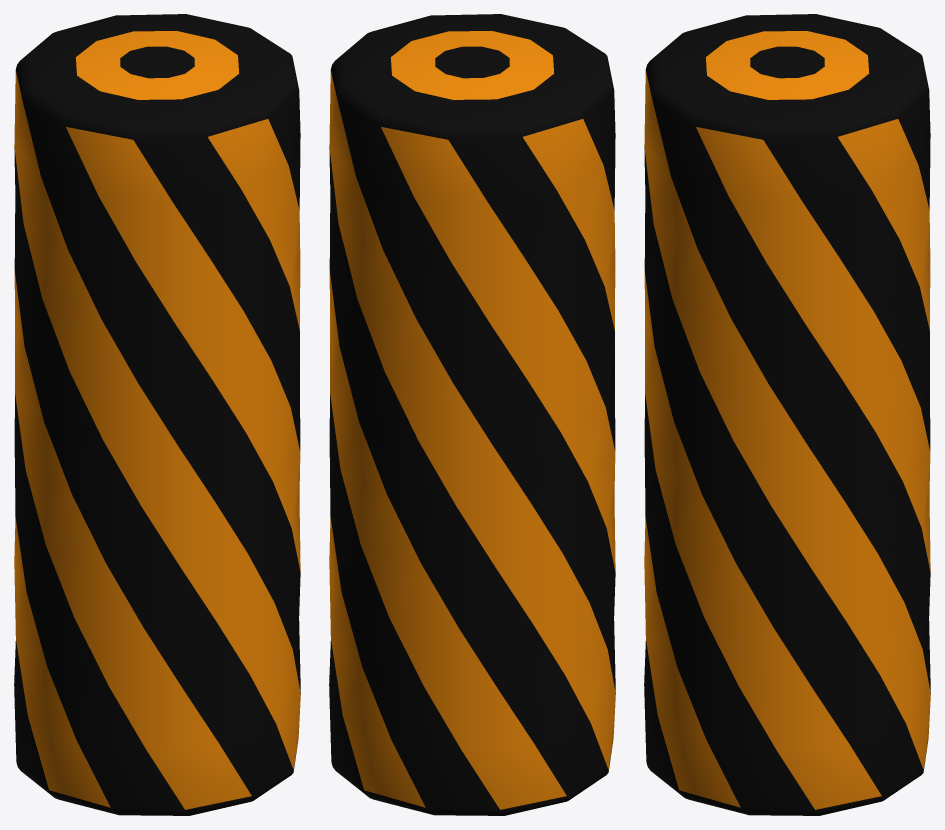
The picture shows the model from 3 angles, left to right: view 1: azimuth 30°, elevation 25°; view 2: azimuth 150°, elevation 25°; view 3: azimuth 270°, elevation 25°; orthographic projection.
Parts seen in each view (by area): view 1: Capsule_01; view 2: Capsule_01; view 3: Capsule_01.
Boxes of the visible parts, left/top/right/bottom form: Capsule_01: left=14, top=14, right=300, bottom=815; Capsule_01: left=329, top=14, right=615, bottom=815; Capsule_01: left=644, top=14, right=930, bottom=815.
Bounding box in the file's own units: 1.93 × 1.93 × 5.24.
